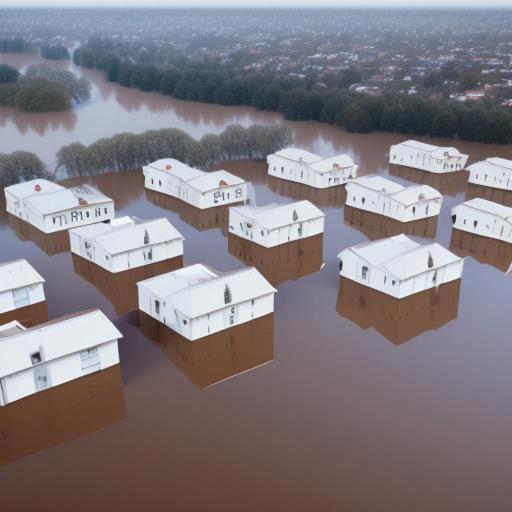flood: (0, 238, 512, 512), (0, 52, 512, 205), (0, 170, 360, 327), (216, 162, 512, 273), (58, 170, 228, 236), (225, 162, 288, 204), (268, 176, 347, 207)
house: (0, 307, 124, 407), (140, 251, 274, 343), (331, 225, 475, 303), (74, 208, 189, 278), (3, 172, 117, 235), (144, 153, 250, 217), (221, 196, 328, 250), (344, 173, 446, 229), (266, 144, 358, 196), (388, 134, 470, 180), (454, 195, 512, 245), (0, 258, 46, 317), (469, 153, 511, 195)
